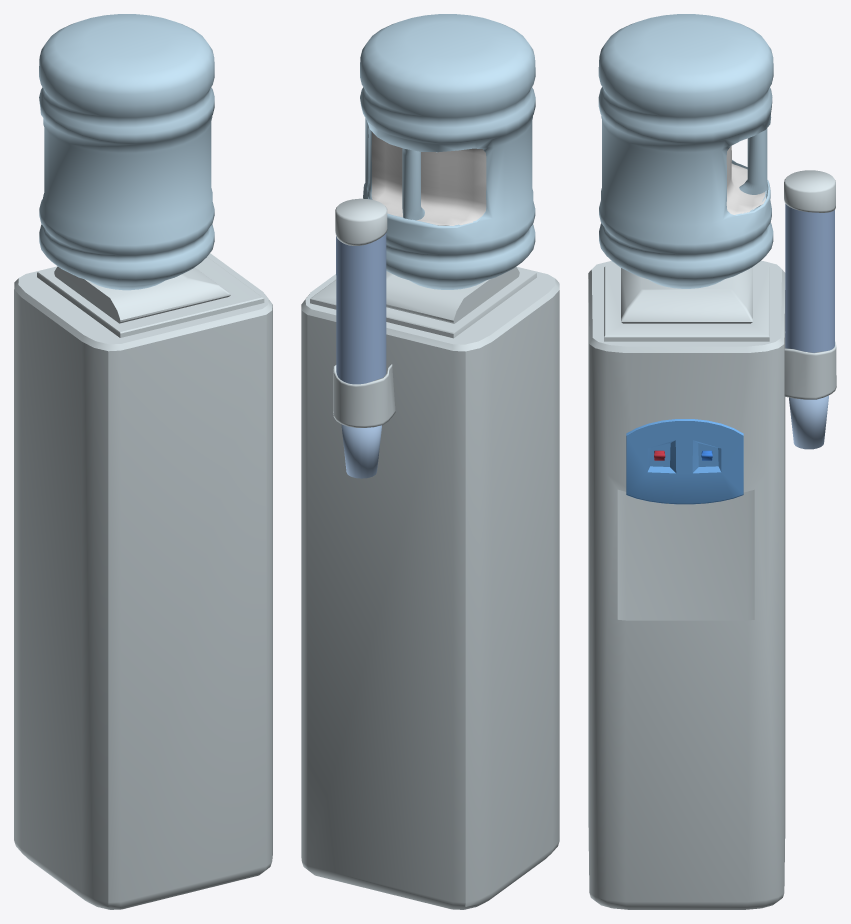
The model's file is dispenser.dae.
3 views of the same model, side by side, from view 1: azimuth 30°, elevation 25°; view 2: azimuth 150°, elevation 25°; view 3: azimuth 270°, elevation 25° (orthographic).
Visible parts, largest first — view 1: water_dispenser, water_jug, water_jug_stand; view 2: water_dispenser, water_jug, cup_holder_mid, water, water_jug_stand, cup_holder_bot, cup_holder_top, cup, water_jug_handle; view 3: water_dispenser, water_jug, water_jug_stand, water_taps_base, cup_holder_mid, cup_holder_bot, cup_holder_top, cup, water_jug_handle, water.
Part boxes in pixels (x1,y1,x2,y2): water_dispenser: (14,253,272,909); water_jug: (39,14,214,290); water_jug_stand: (37,257,264,337); water_dispenser: (301,266,559,909); water_jug: (360,14,535,289); cup_holder_mid: (336,233,386,384); water: (371,132,486,225); water_jug_stand: (310,267,536,338); cup_holder_bot: (333,364,395,427); cup_holder_top: (335,198,387,245); cup: (341,424,381,478); water_jug_handle: (402,148,424,220); water_dispenser: (588,261,785,909); water_jug: (598,14,773,288); water_jug_stand: (604,266,769,341); water_taps_base: (626,419,743,504); cup_holder_mid: (785,203,834,352); cup_holder_bot: (784,331,836,399); cup_holder_top: (784,170,835,212); cup: (789,395,828,449); water_jug_handle: (739,128,767,194); water: (726,146,766,214).
Bounding box in the file's own units: 0.3597 × 0.4087 × 1.49.
